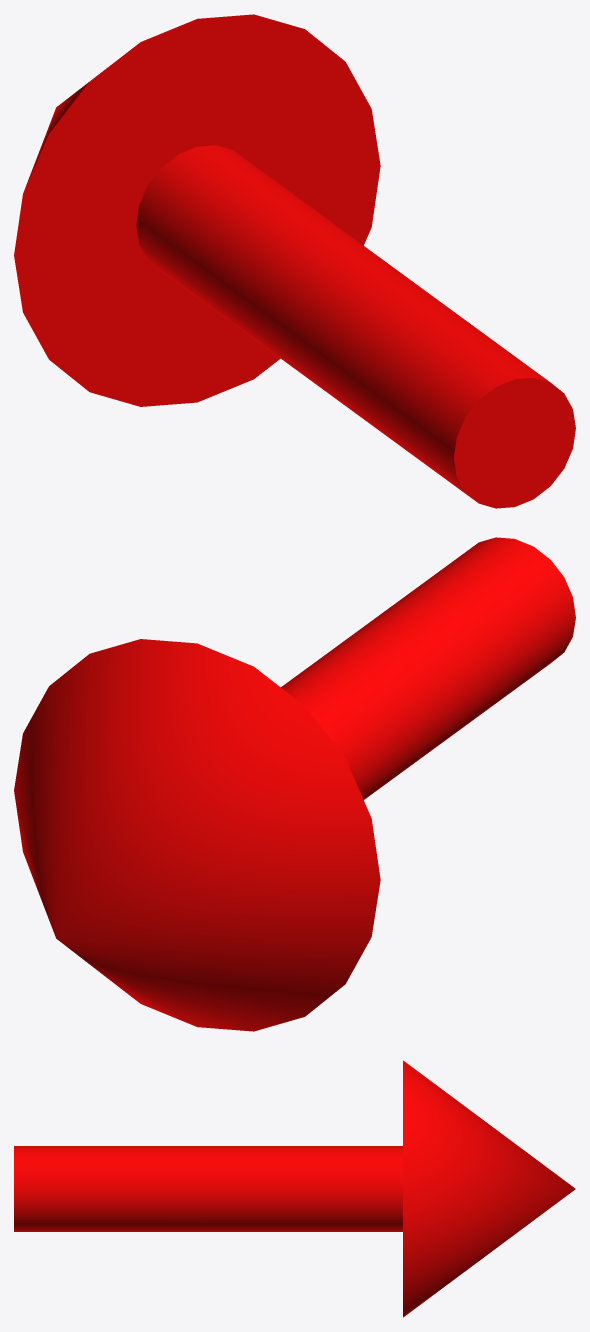
The model's file is arrow.dae.
3 views of the same model, one above another, from view 1: azimuth 30°, elevation 25°; view 2: azimuth 150°, elevation 25°; view 3: azimuth 270°, elevation 25° (orthographic). The views are drawn at different scales.
Parts seen in each view (by area): view 1: pCone1, pCylinder1; view 2: pCone1, pCylinder1; view 3: pCylinder1, pCone1.
Part boxes in pixels (x1,y1,x2,y2): pCone1: (14, 14, 380, 406); pCylinder1: (136, 145, 575, 508); pCone1: (14, 639, 380, 1031); pCylinder1: (281, 537, 575, 799); pCylinder1: (14, 1146, 402, 1231); pCone1: (403, 1060, 575, 1317).
Size of the model in its own units: 0.6 by 0.6 by 1.3.
